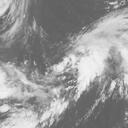cyclone: (48, 40, 102, 92)
